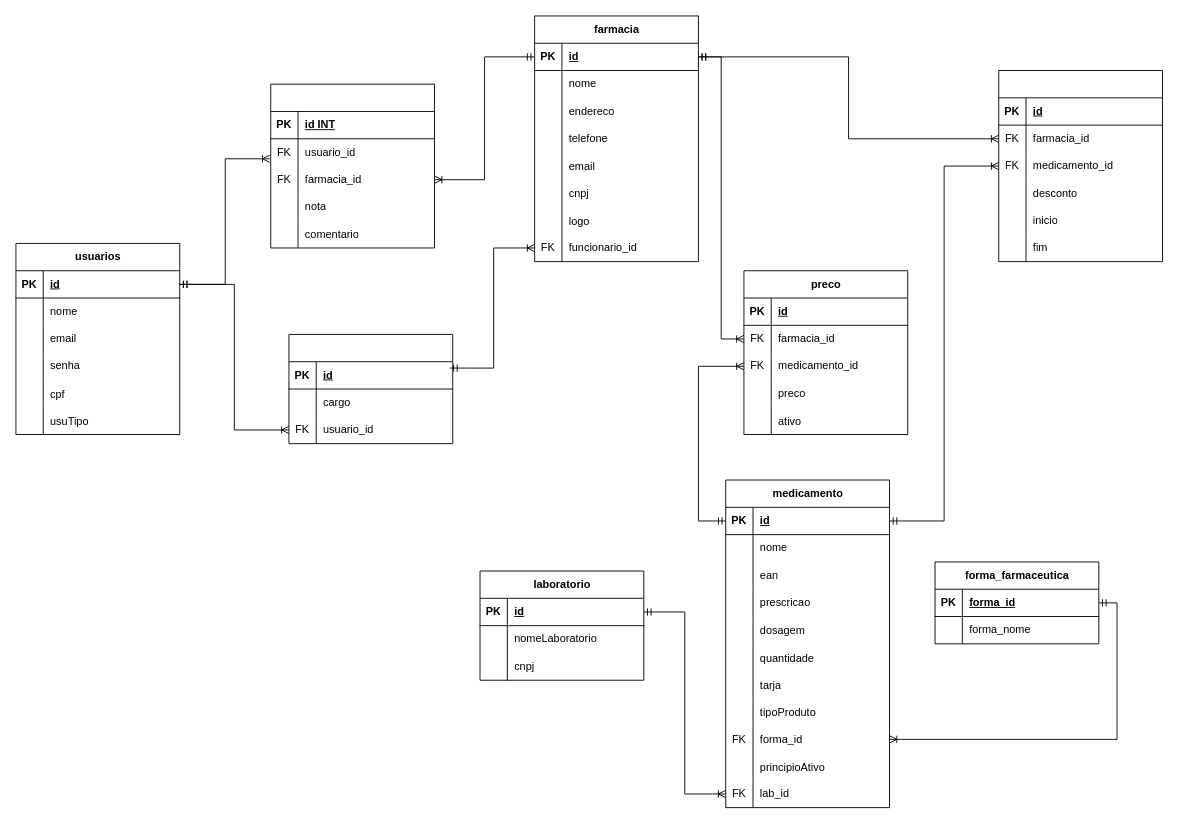
This 1178x824 diagram has some shape labels left out. The shapes that lost their labels are listed below. From the top down, each one's box as (x1, y1, x2, y2) in pixels, then its label:
(270, 83, 435, 248): avaliacao
(998, 70, 1163, 262): promocao
(288, 334, 453, 444): funcionario
